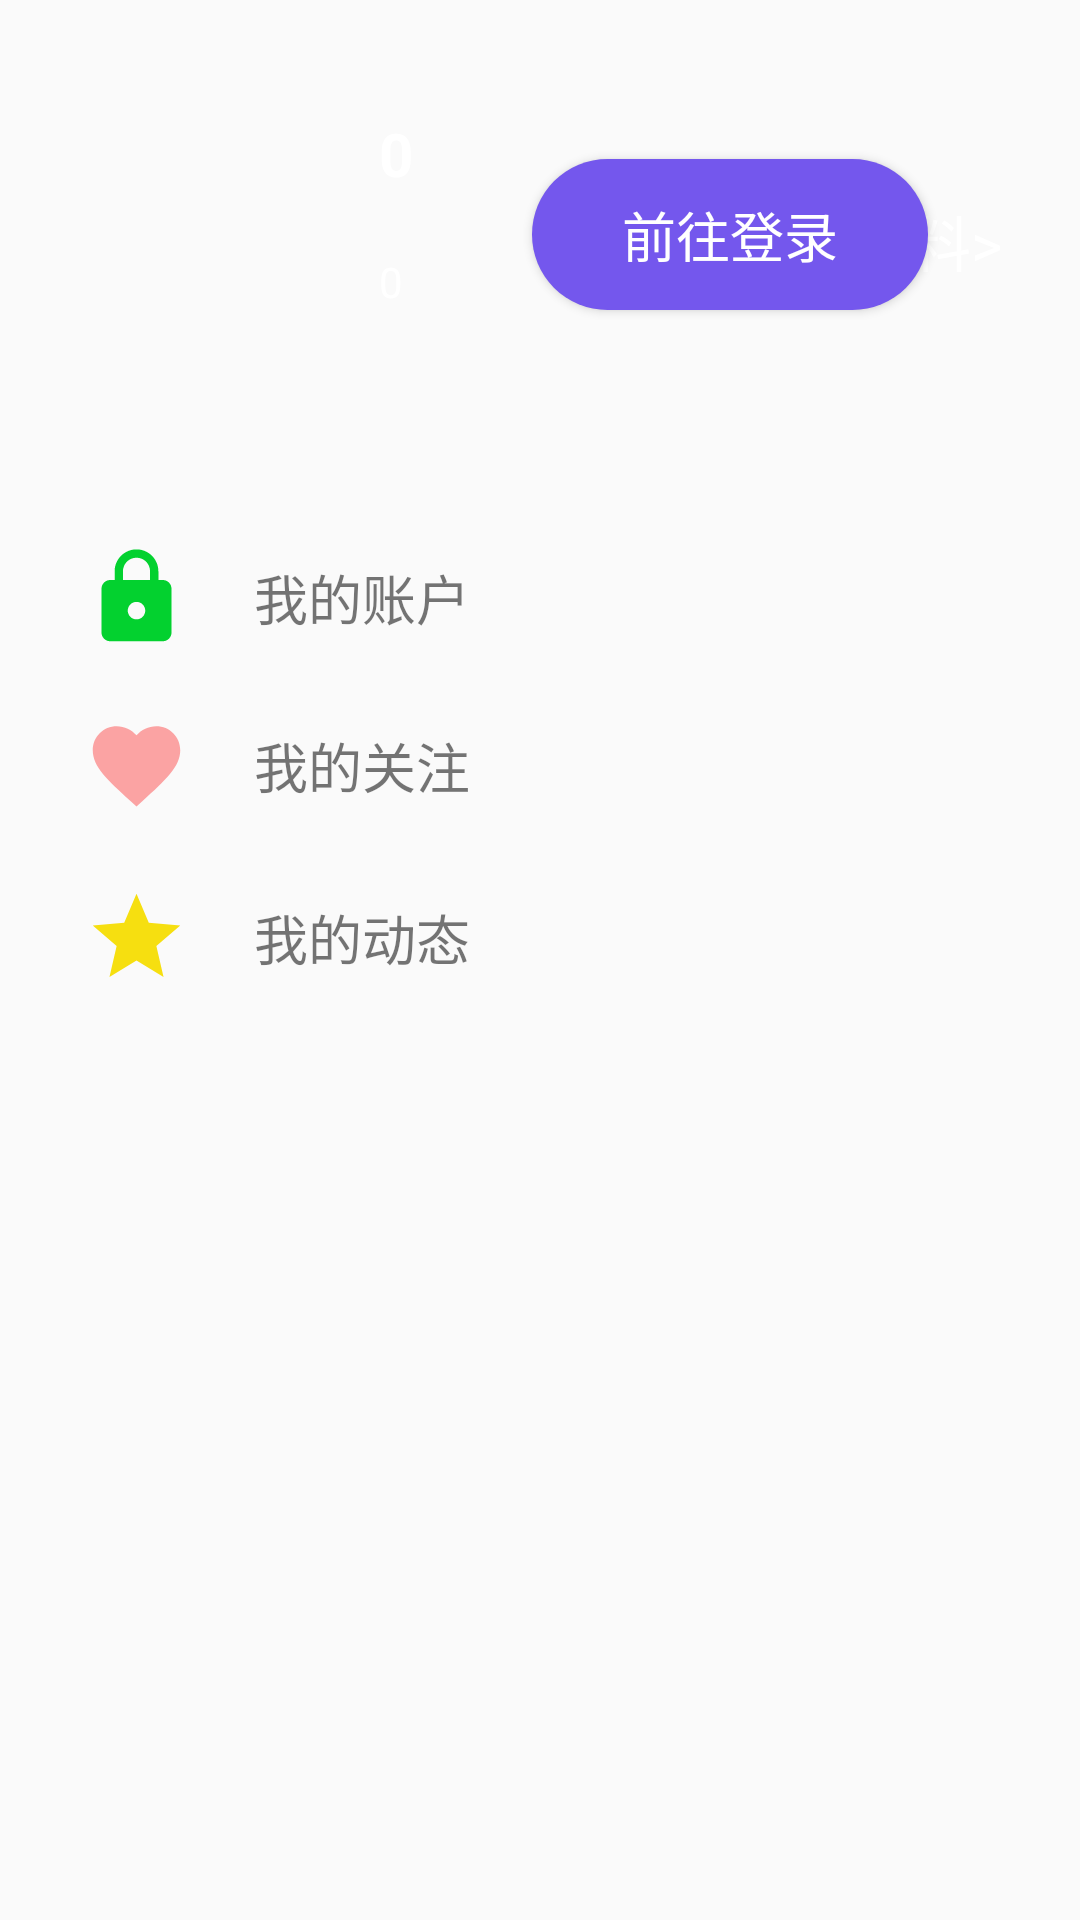

Named icons in this screenshot (1080w x 1920h) and their bounding boxes, {"x1": x1, "y1": y1, "x2": x2, "y2": y2}:
favorite: {"x1": 93, "y1": 726, "x2": 180, "y2": 807}
lock: {"x1": 101, "y1": 549, "x2": 172, "y2": 642}
star: {"x1": 93, "y1": 894, "x2": 180, "y2": 977}
